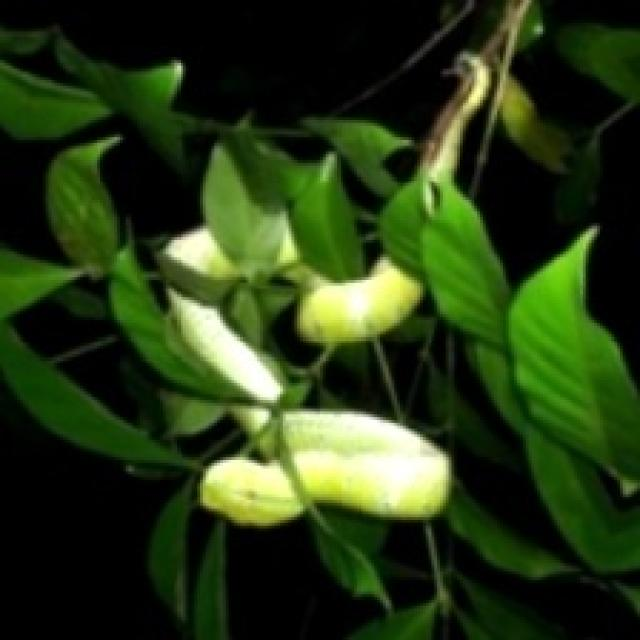north ph temple pitviper: (137, 0, 529, 531), (283, 409, 449, 517), (200, 457, 303, 523)
